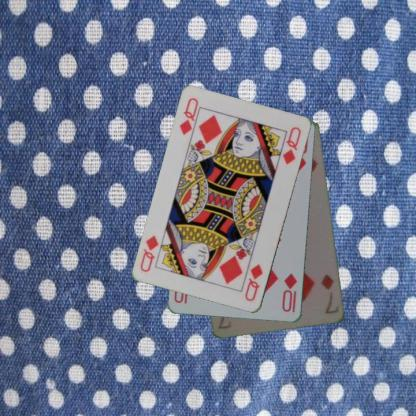10d: (280, 271, 298, 314)
7d: (319, 272, 340, 316)
Qd: (177, 96, 202, 141), (242, 262, 265, 302)
